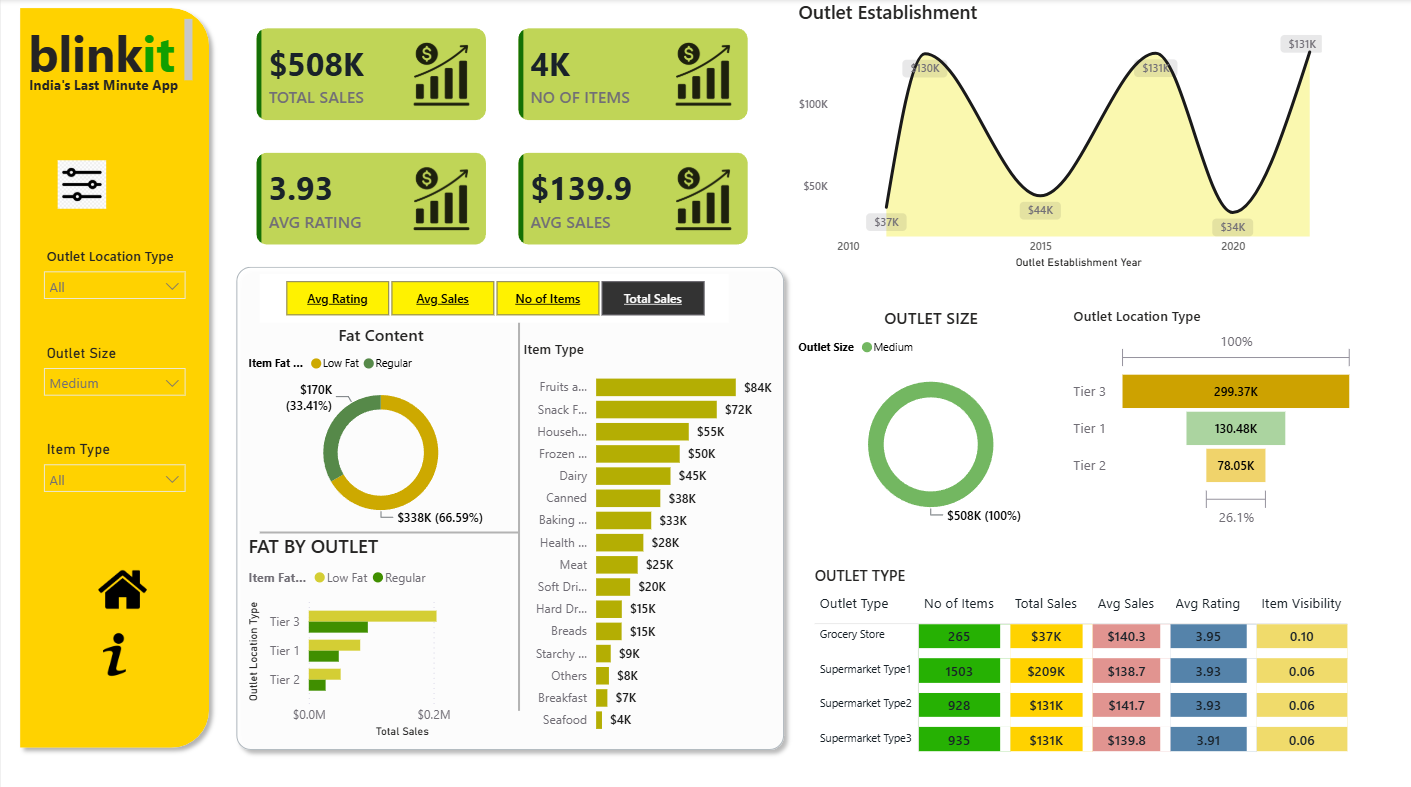

What the dashboard file says about the page in this screenshot:
{"tool":"powerbi","page":{"name":"Page 1","canvas":[1400,800],"ordinal":0},"visuals":[{"type":"shape","box":[10,0,205,750],"z":0},{"type":"textbox","box":[22.5,15,172.6,72],"z":1000},{"type":"textbox","box":[22.5,70.5,159.1,33],"z":2000},{"type":"cardVisual","fields":{"Data":["BlinkIT Grocery Data.Total Sales","BlinkIT Grocery Data.No of Items","BlinkIT Grocery Data.Avg Rating","BlinkIT Grocery Data.Avg Sales"]},"box":[224,0,544,272],"z":3000},{"type":"shape","box":[224,256,560,496],"z":4000},{"type":"donutChart","title":"Fat Content","fields":{"Category":["BlinkIT Grocery Data.Item Fat Content"],"Y":["BlinkIT Grocery Data.Total Sales"]},"box":[240,320,272,208],"z":5000},{"type":"slicer","fields":{"Values":["Metrics.Metrics"]},"box":[256,272,464,48],"z":6000},{"type":"clusteredBarChart","title":"FAT BY OUTLET ","fields":{"Category":["BlinkIT Grocery Data.Outlet Location Type"],"Series":["BlinkIT Grocery Data.Item Fat Content"],"Y":["BlinkIT Grocery Data.Total Sales"]},"box":[240,528,272,208],"z":7000},{"type":"shape","box":[256,480,256,96],"z":8000},{"type":"shape","box":[368,320,288,384],"z":9000},{"type":"barChart","title":"Item Type","fields":{"Category":["BlinkIT Grocery Data.Item Type"],"Y":["BlinkIT Grocery Data.Total Sales"]},"box":[512,336,256,400],"z":10000},{"type":"lineChart","title":"Outlet Establishment ","fields":{"Category":["BlinkIT Grocery Data.Outlet Establishment Year"],"Y":["BlinkIT Grocery Data.Total Sales"]},"box":[784,0,528,272],"z":11000},{"type":"donutChart","title":"OUTLET SIZE","fields":{"Category":["BlinkIT Grocery Data.Outlet Size"],"Y":["BlinkIT Grocery Data.Total Sales"]},"box":[784,304,272,224],"z":12000},{"type":"funnel","title":"Outlet Location Type","fields":{"Category":["BlinkIT Grocery Data.Outlet Location Type"],"Y":["Sum(BlinkIT Grocery Data.Sales)"]},"box":[1056,304,288,224],"z":13000},{"type":"pivotTable","title":"OUTLET TYPE","fields":{"Rows":["BlinkIT Grocery Data.Outlet Type"],"Values":["BlinkIT Grocery Data.No of Items","BlinkIT Grocery Data.Total Sales","BlinkIT Grocery Data.Avg Sales","BlinkIT Grocery Data.Avg Rating","Avg(BlinkIT Grocery Data.Item Visibility)"]},"box":[800,560,560,192],"z":14000},{"type":"slicer","fields":{"Values":["BlinkIT Grocery Data.Outlet Location Type"]},"box":[32,240,160,80],"z":15000},{"type":"slicer","fields":{"Values":["BlinkIT Grocery Data.Outlet Size"]},"box":[32,336,160,80],"z":16000},{"type":"slicer","fields":{"Values":["BlinkIT Grocery Data.Item Type"]},"box":[32,432,160,80],"z":17000},{"type":"image","box":[64,560,112,48],"z":18000},{"type":"image","box":[48,624,128,48],"z":19000},{"type":"image","box":[16,160,128,48],"z":20000}]}

Visuals, with their boxes in screenshot pixels (x1, y1, x2, y2), scaled from the page's 1400x800 canvas onto the 1411x787 screenshot:
shape: 10, 0, 217, 738
textbox: 23, 15, 197, 86
textbox: 23, 69, 183, 102
cardVisual - BlinkIT Grocery Data.Total Sales x BlinkIT Grocery Data.No of Items: 226, 0, 774, 268
shape: 226, 252, 790, 740
"Fat Content" donutChart: 242, 315, 516, 519
slicer - Metrics.Metrics: 258, 268, 726, 315
"FAT BY OUTLET " clusteredBarChart: 242, 519, 516, 724
shape: 258, 472, 516, 567
shape: 371, 315, 661, 693
"Item Type" barChart: 516, 331, 774, 724
"Outlet Establishment " lineChart: 790, 0, 1322, 268
"OUTLET SIZE" donutChart: 790, 299, 1064, 519
"Outlet Location Type" funnel: 1064, 299, 1355, 519
"OUTLET TYPE" pivotTable: 806, 551, 1371, 740
slicer - BlinkIT Grocery Data.Outlet Location Type: 32, 236, 194, 315
slicer - BlinkIT Grocery Data.Outlet Size: 32, 331, 194, 409
slicer - BlinkIT Grocery Data.Item Type: 32, 425, 194, 504
image: 65, 551, 177, 598
image: 48, 614, 177, 661
image: 16, 157, 145, 205
